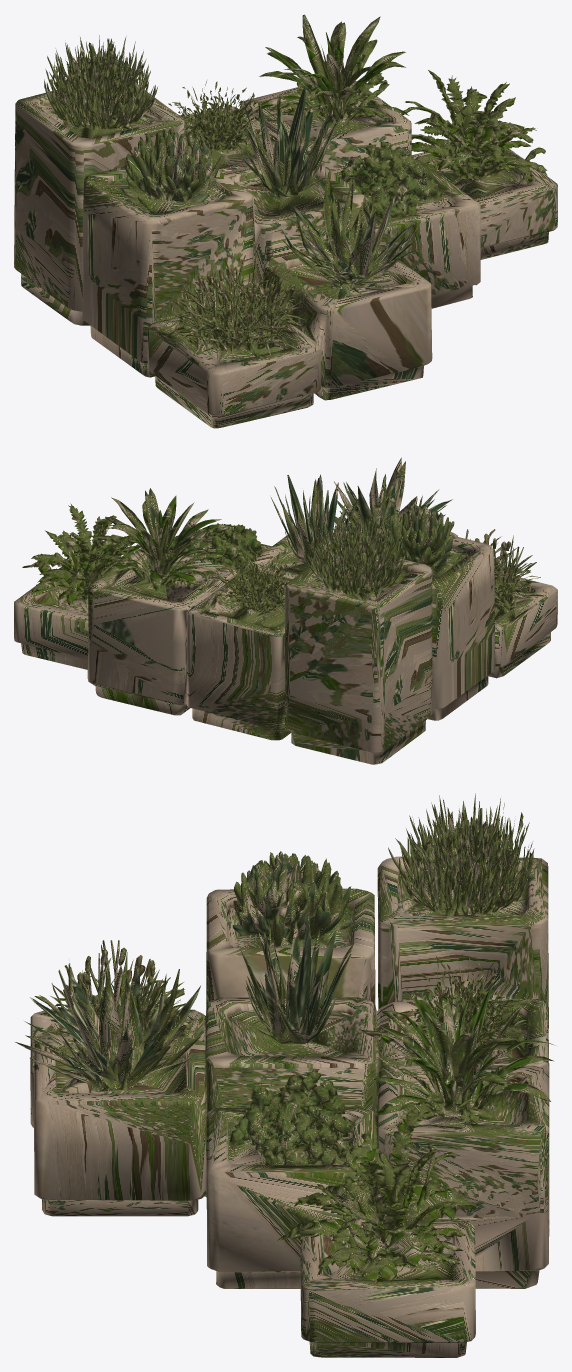
File: planters.glb
The picture shows the model from 3 angles, top to bottom: view 1: azimuth 30°, elevation 25°; view 2: azimuth 150°, elevation 25°; view 3: azimuth 270°, elevation 25°; orthographic projection. The views are drawn at different scales.
Bounding box in the file's own units: 1.91 × 0.9512 × 1.51.
1 material, 1 textured.
